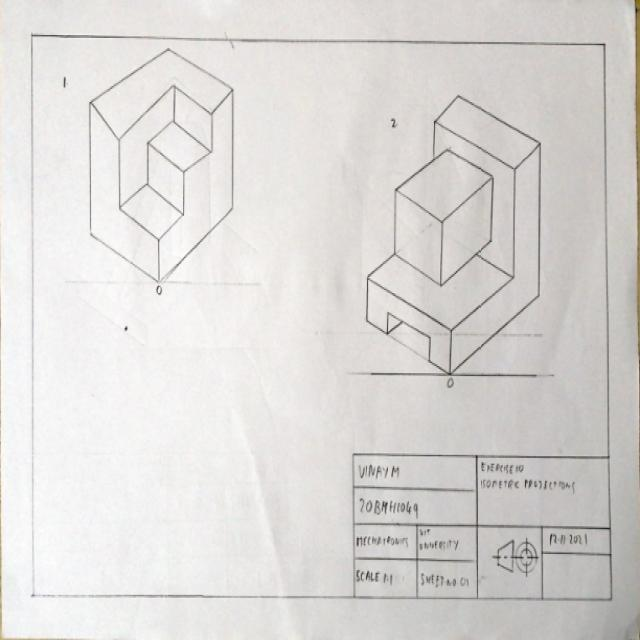Drawings: (359, 82, 550, 396), (84, 42, 244, 298)
